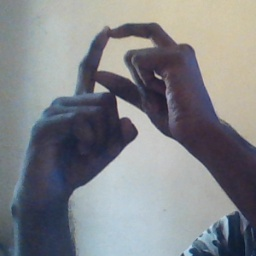D: (65, 19, 186, 146)
